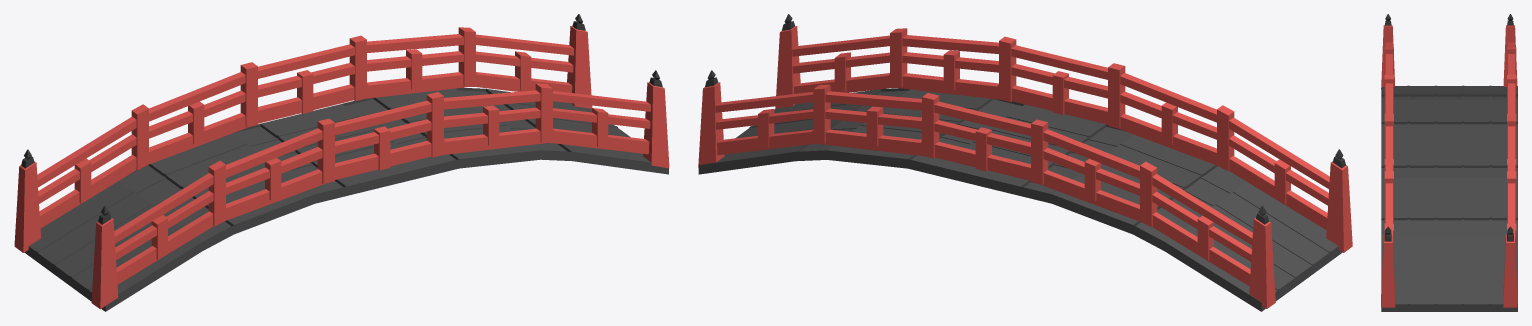
File: Bridge.fbx
3 views of the same model, side by side, from view 1: azimuth 30°, elevation 25°; view 2: azimuth 150°, elevation 25°; view 3: azimuth 270°, elevation 25° (orthographic). The views are drawn at different scales.
Parts seen in each view (by area): view 1: Cube.005; view 2: Cube.005; view 3: Cube.005.
Boxes of the visible parts, <box> form: Cube.005: <box>14,14,669,311</box>; Cube.005: <box>698,14,1352,311</box>; Cube.005: <box>1381,14,1517,311</box>.
Bounding box in the file's own units: 680 × 150 × 178.
